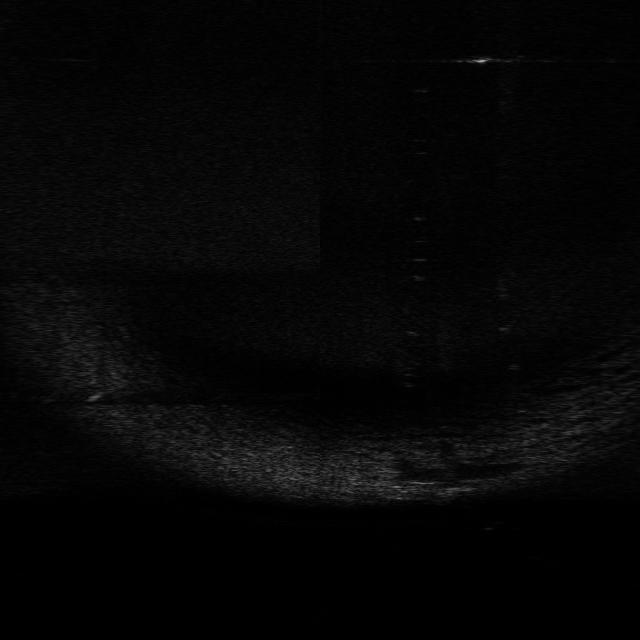plane: (397, 475, 494, 502)
